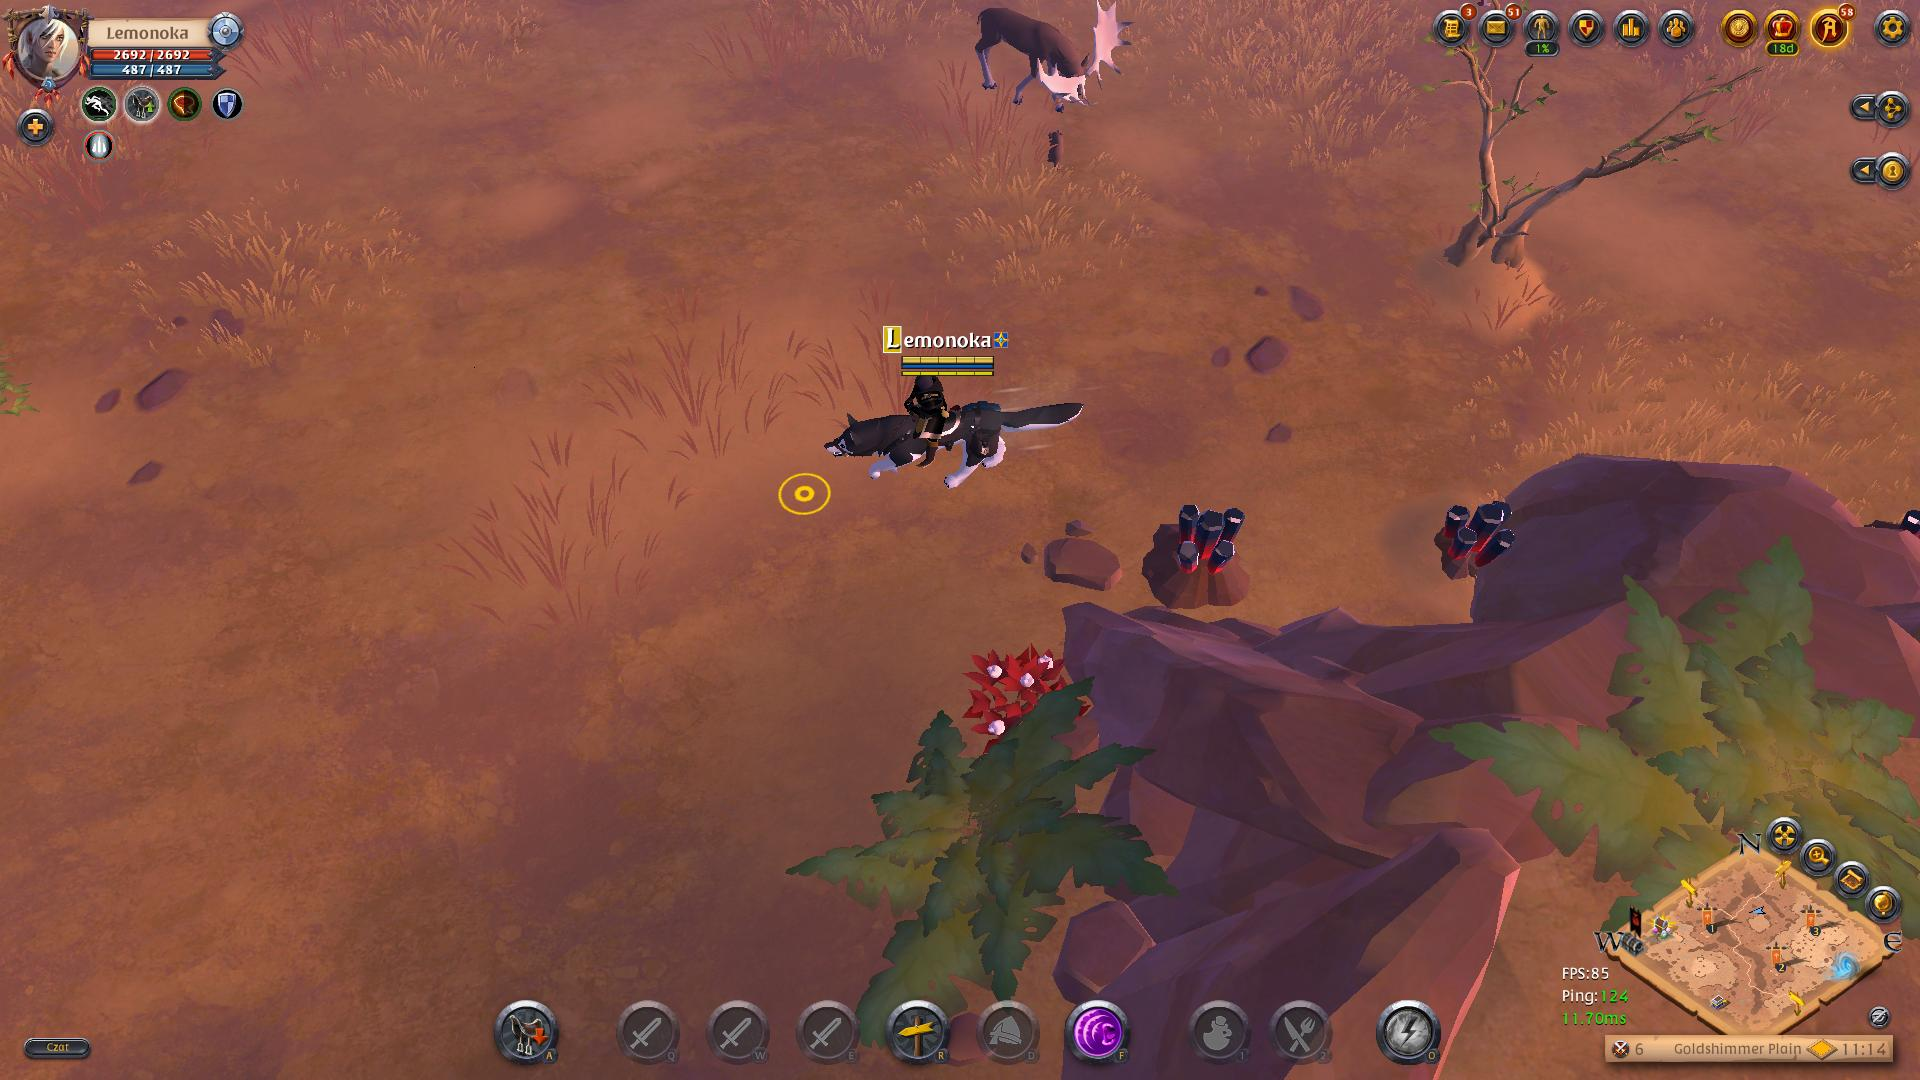fiber tier 5: (967, 638, 1088, 738)
ore tier 5: (1145, 487, 1255, 618), (1423, 491, 1523, 588)
